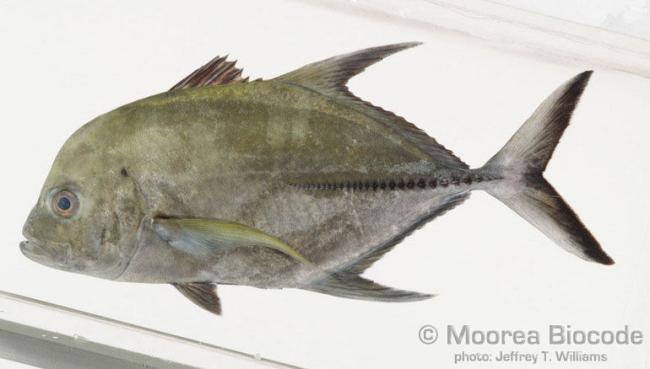fish: (20, 43, 617, 314)
